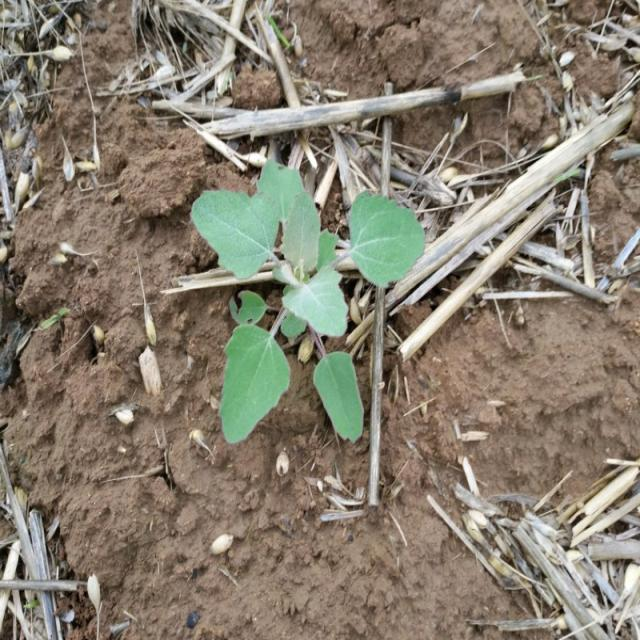goosefoots: (171, 141, 427, 445)
